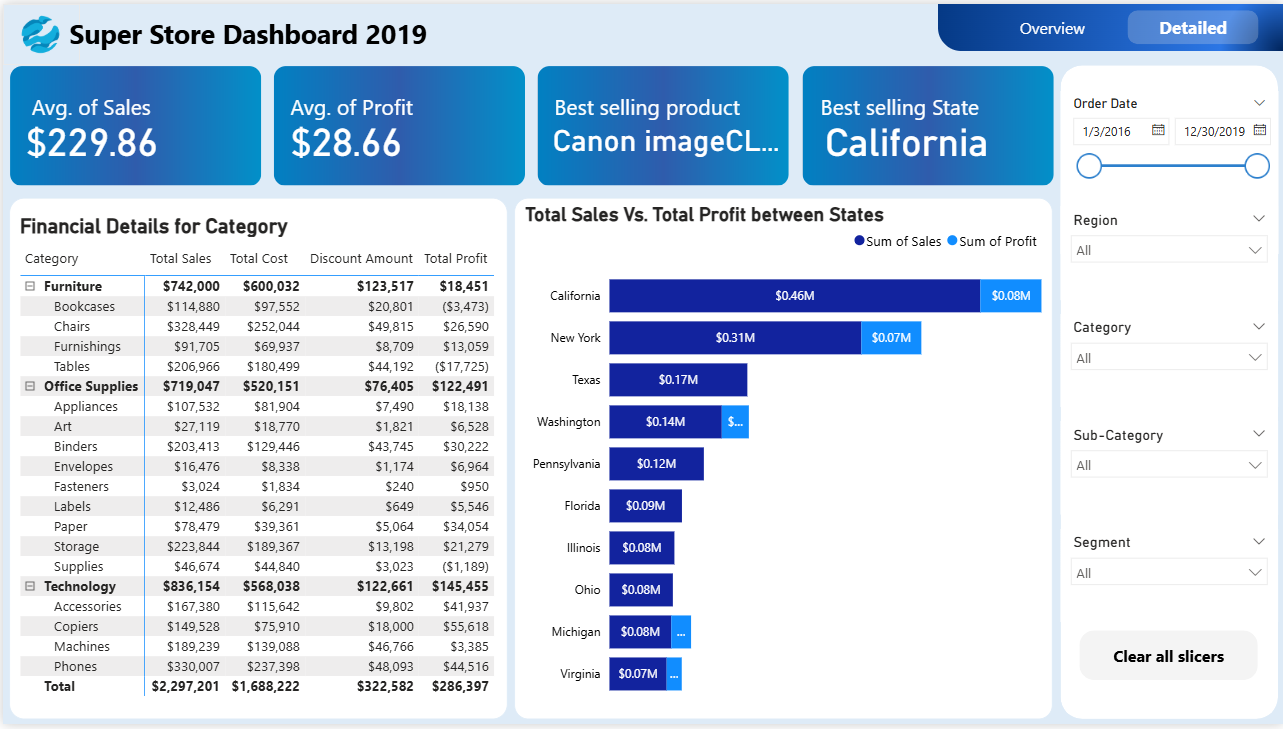

The page's visual inventory and layout, read from the dashboard file:
{"tool":"powerbi","page":{"name":"Detailed","canvas":[1280,720],"ordinal":1},"visuals":[{"type":"pageNavigator","box":[984,6,272,34],"z":0},{"type":"image","box":[6.2,61.2,252,121.2],"z":0,"group":"g1"},{"type":"image","box":[266.7,61.2,252,121.2],"z":0,"group":"g2"},{"type":"image","box":[527.1,61.2,252,121.2],"z":0,"group":"g4"},{"type":"image","box":[787.5,61.2,252,121.2],"z":0,"group":"g3"},{"type":"textbox","box":[278.9,82.1,160.5,53.1],"z":1000,"group":"g2"},{"type":"textbox","box":[539.9,82.1,198.8,52.5],"z":1000,"group":"g4"},{"type":"textbox","box":[800.6,82.1,203.8,52.5],"z":1000,"group":"g3"},{"type":"card","title":"Total Profit","fields":{"Values":["Avg(Orders.Sales)"]},"box":[22.1,107.1,137.5,55],"z":1000,"group":"g1"},{"type":"image","box":[0,0,77.5,61.2],"z":2000},{"type":"textbox","box":[23.2,82.9,160.5,53.1],"z":2000,"group":"g1"},{"type":"card","title":"Total Profit","fields":{"Values":["Avg(Orders.Profit)"]},"box":[282.9,107.1,118.8,55],"z":2000,"group":"g2"},{"type":"card","title":"Total Profit","fields":{"Values":["Orders.Top Product"]},"box":[543.7,107.1,231.2,55],"z":2000,"group":"g4"},{"type":"card","title":"Total Profit","fields":{"Values":["Orders.Top State"]},"box":[804.9,107.1,180,55],"z":2000,"group":"g3"},{"type":"textbox","box":[61.2,6.2,370,46.2],"z":3000},{"type":"group","id":"g1","title":"Card 1","box":[6.2,61.2,252,121.2],"z":12000},{"type":"group","id":"g2","title":"Card 2","box":[266.7,61.2,252,121.2],"z":13000},{"type":"group","id":"g3","title":"Card 2","box":[787.5,61.2,252.5,121.2],"z":14000},{"type":"group","id":"g4","title":"Card 2","box":[527.1,61.2,252,121.2],"z":15000},{"type":"pivotTable","title":"Financial Details for Category","fields":{"Values":["Sum(Orders.Sales)","Sum(Orders.Cost)","Sum(Orders.DiscountAmount)","Sum(Orders.Profit)"],"Rows":["Orders.Category","Orders.Sub-Category"]},"box":[6.2,193.8,498.8,521.2],"z":16000},{"type":"barChart","title":"Total Sales Vs. Total Profit between States","fields":{"Category":["Orders.State"],"Y":["Sum(Orders.Sales)","Sum(Orders.Profit)"]},"box":[511.2,193.8,529,521.2],"z":16500},{"type":"shape","box":[1048.8,61.2,226.2,653.8],"z":16501},{"type":"slicer","fields":{"Values":["Orders.Order Date"]},"box":[1048.8,87.5,226.2,161.2],"z":16502},{"type":"slicer","fields":{"Values":["Orders.Category"]},"box":[1048.8,310,226.2,92.5],"z":16503},{"type":"slicer","fields":{"Values":["Orders.Segment"]},"box":[1048.8,525,226.2,92.5],"z":16504},{"type":"slicer","fields":{"Values":["Orders.Sub-Category"]},"box":[1048.8,417.5,226.2,92.5],"z":16505},{"type":"actionButton","box":[1072.5,626.2,178.8,50],"z":16506},{"type":"slicer","fields":{"Values":["Orders.Region"]},"box":[1048.8,202.5,226.2,93.8],"z":16507}]}

Visuals, with their boxes in screenshot pixels (x1, y1, x2, y2), scaled from the page's 1280x720 canvas onto the 1283x729 screenshot:
pageNavigator: 986/6/1259/40
image: 6/62/259/185
image: 267/62/520/185
image: 528/62/781/185
image: 789/62/1042/185
textbox: 280/83/440/137
textbox: 541/83/740/136
textbox: 802/83/1007/136
"Total Profit" card: 22/108/160/164
image: 0/0/78/62
textbox: 23/84/184/138
"Total Profit" card: 284/108/403/164
"Total Profit" card: 545/108/777/164
"Total Profit" card: 807/108/987/164
textbox: 61/6/432/53
"Card 1" group: 6/62/259/185
"Card 2" group: 267/62/520/185
"Card 2" group: 789/62/1042/185
"Card 2" group: 528/62/781/185
"Financial Details for Category" pivotTable: 6/196/506/724
"Total Sales Vs. Total Profit between States" barChart: 512/196/1043/724
shape: 1051/62/1278/724
slicer - Orders.Order Date: 1051/89/1278/252
slicer - Orders.Category: 1051/314/1278/408
slicer - Orders.Segment: 1051/532/1278/625
slicer - Orders.Sub-Category: 1051/423/1278/516
actionButton: 1075/634/1254/685
slicer - Orders.Region: 1051/205/1278/300
